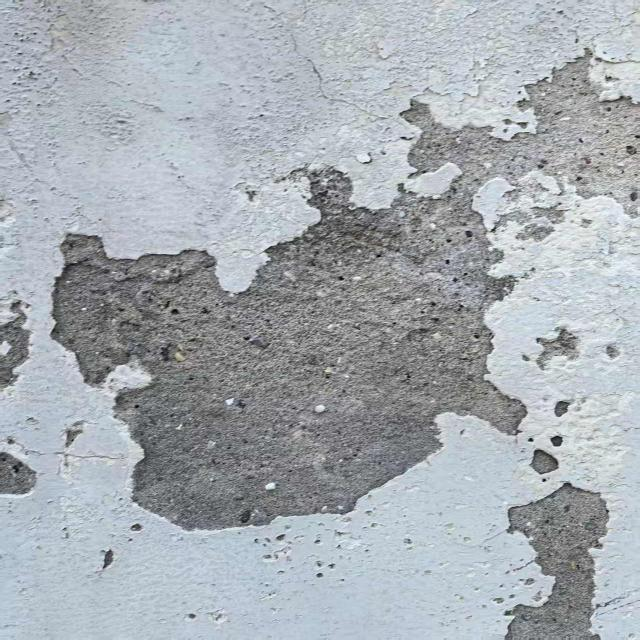spalling: (40, 21, 635, 538), (504, 482, 613, 640), (1, 289, 36, 395), (4, 444, 45, 506), (54, 418, 96, 455)
